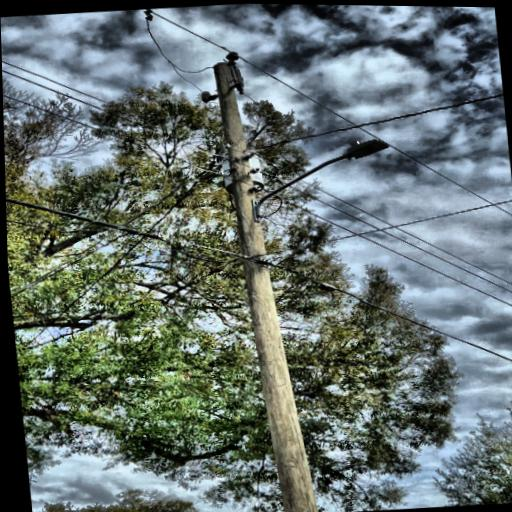insulator: (224, 49, 243, 63)
pole: (201, 52, 352, 512)
street light: (241, 135, 398, 229)
transformer: (218, 143, 265, 196)
